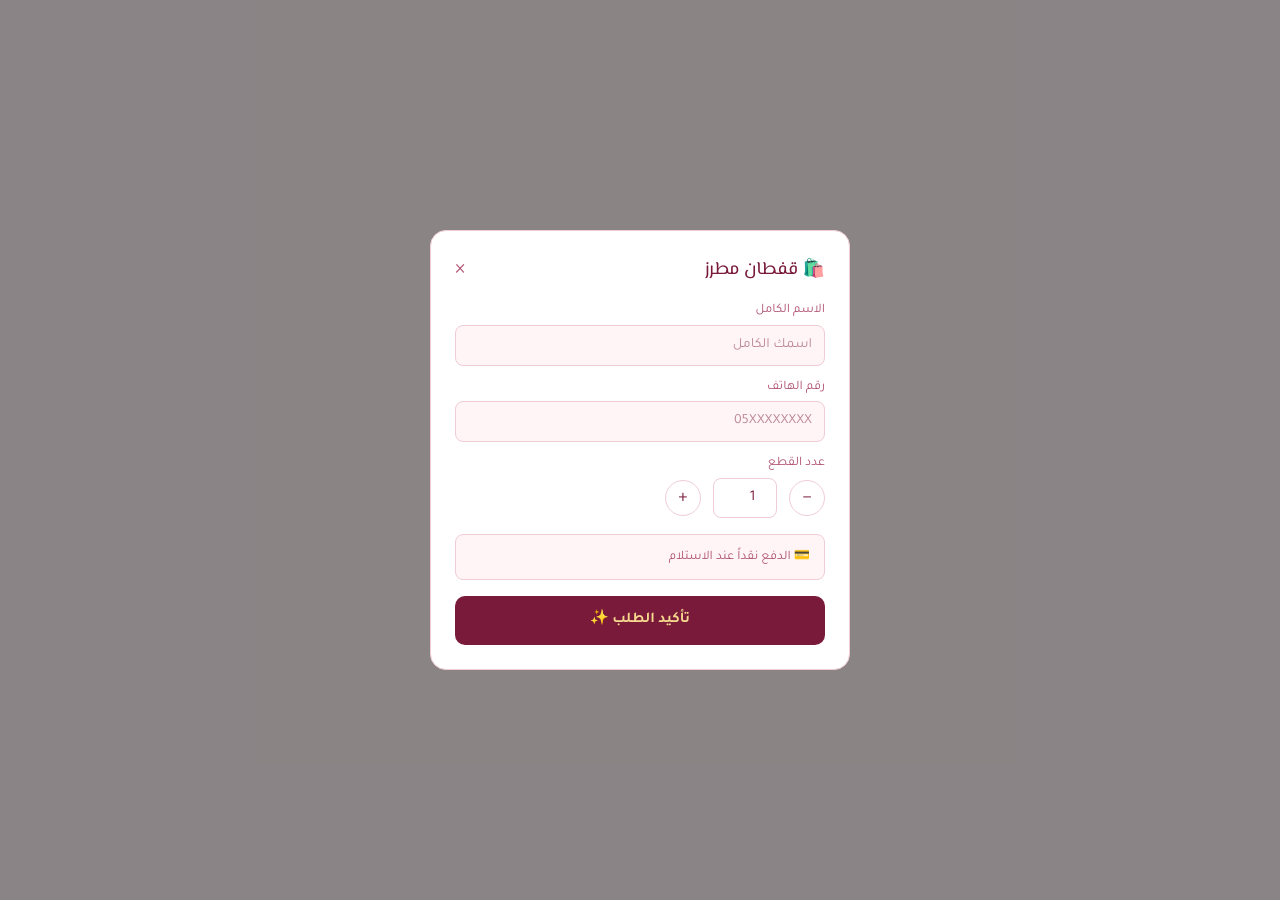
OrderModal › shows validation error for invalid phone
Type "فاطمة" into the field with placeholder "اسمك الكامل".
click(640, 345); type("فاطمة")  # box [455, 325, 825, 366]
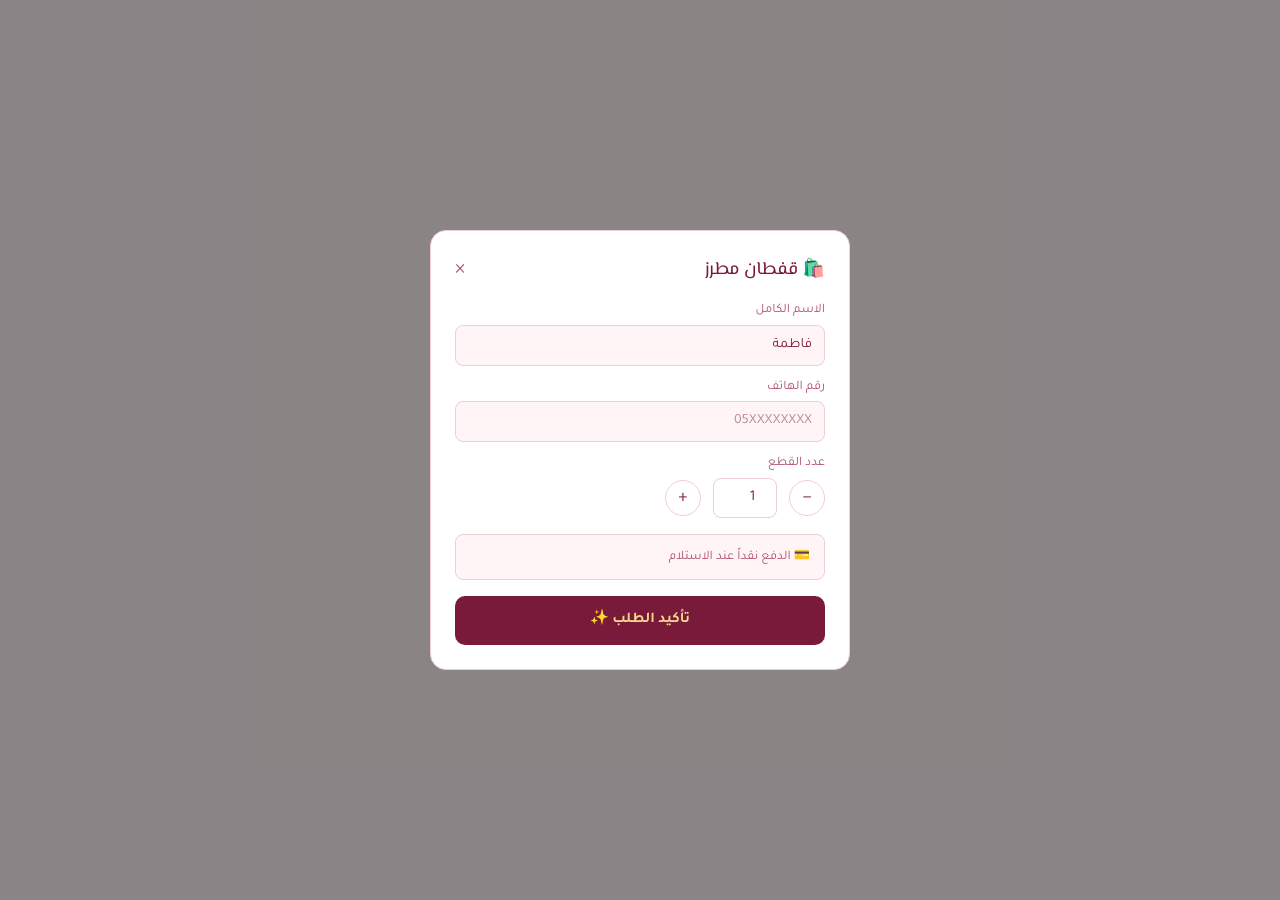
Type "0412345678" into the field with placeholder "05XXXXXXXX".
click(640, 422); type("0412345678")  # box [455, 401, 825, 442]
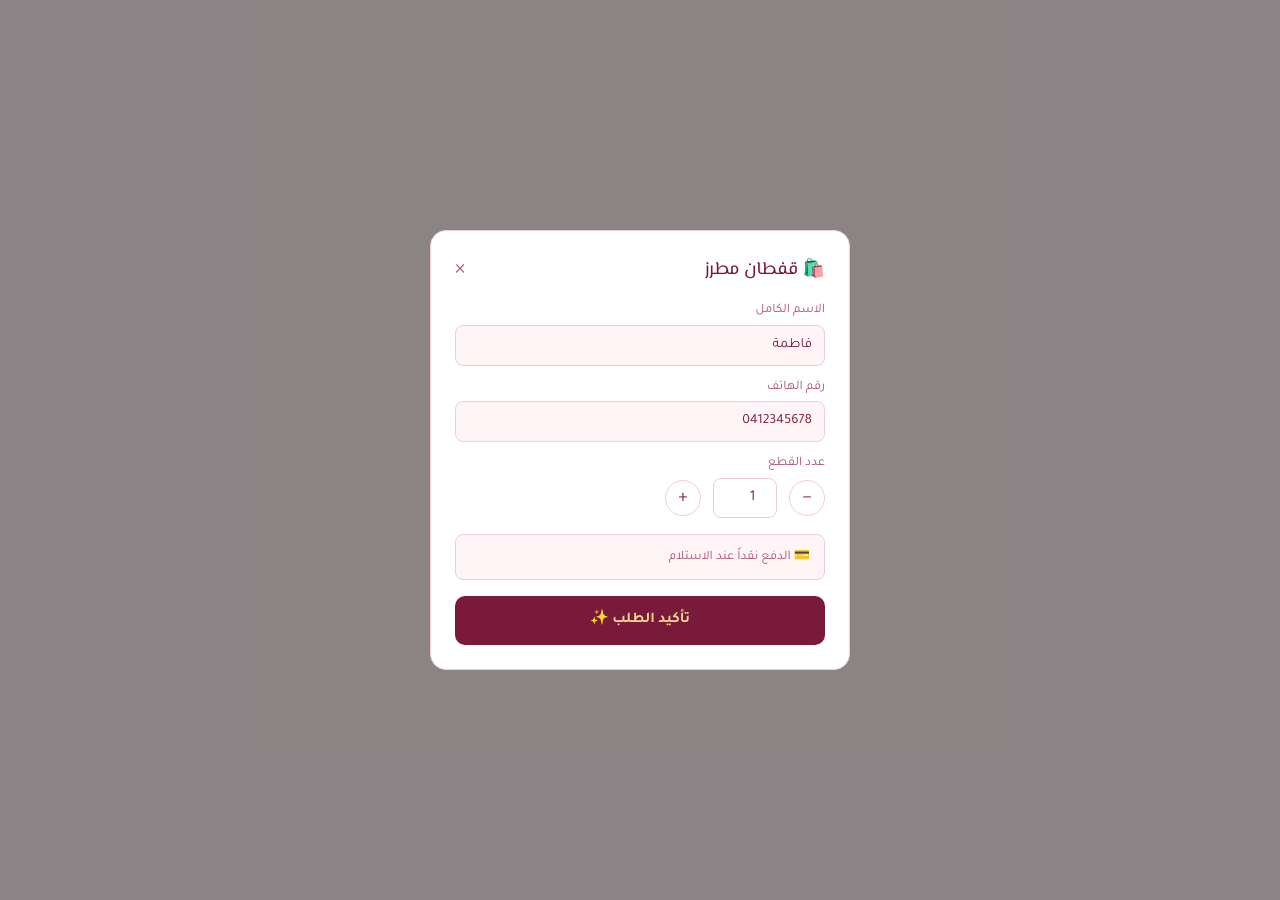
Click the button "تأكيد الطلب ✨".
click(640, 621)  # box [455, 596, 825, 645]
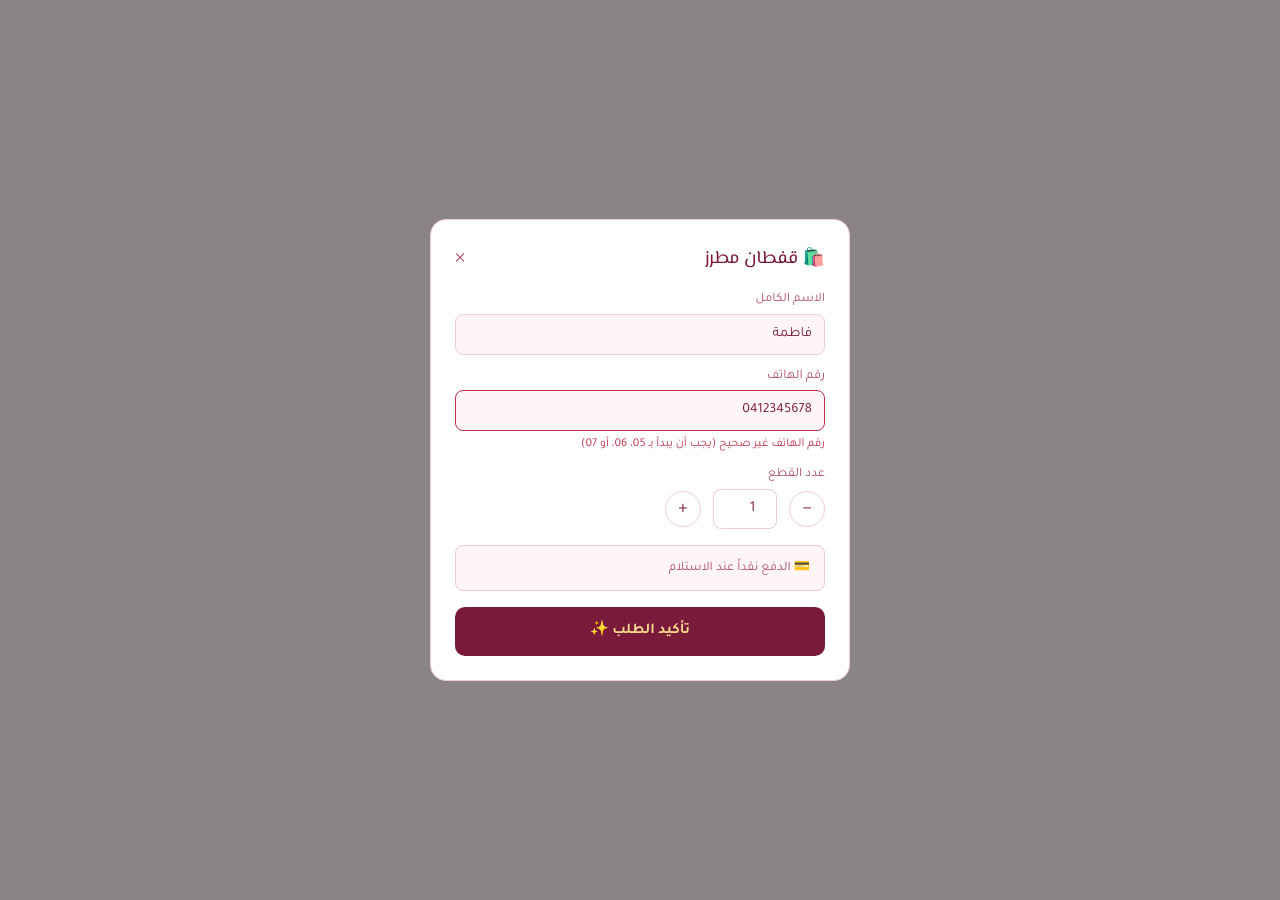
Check: the text "رقم الهاتف غير صحيح (يجب أن يبدأ بـ 05، 06، أو 07)" is shown, box [581, 438, 825, 450]
